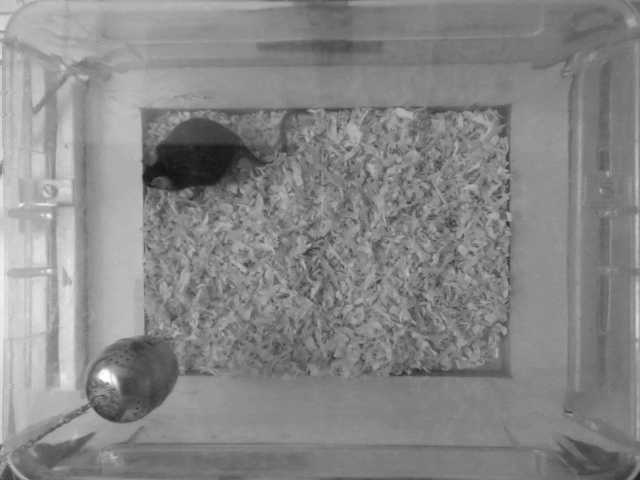mice: (141, 109, 303, 195)
